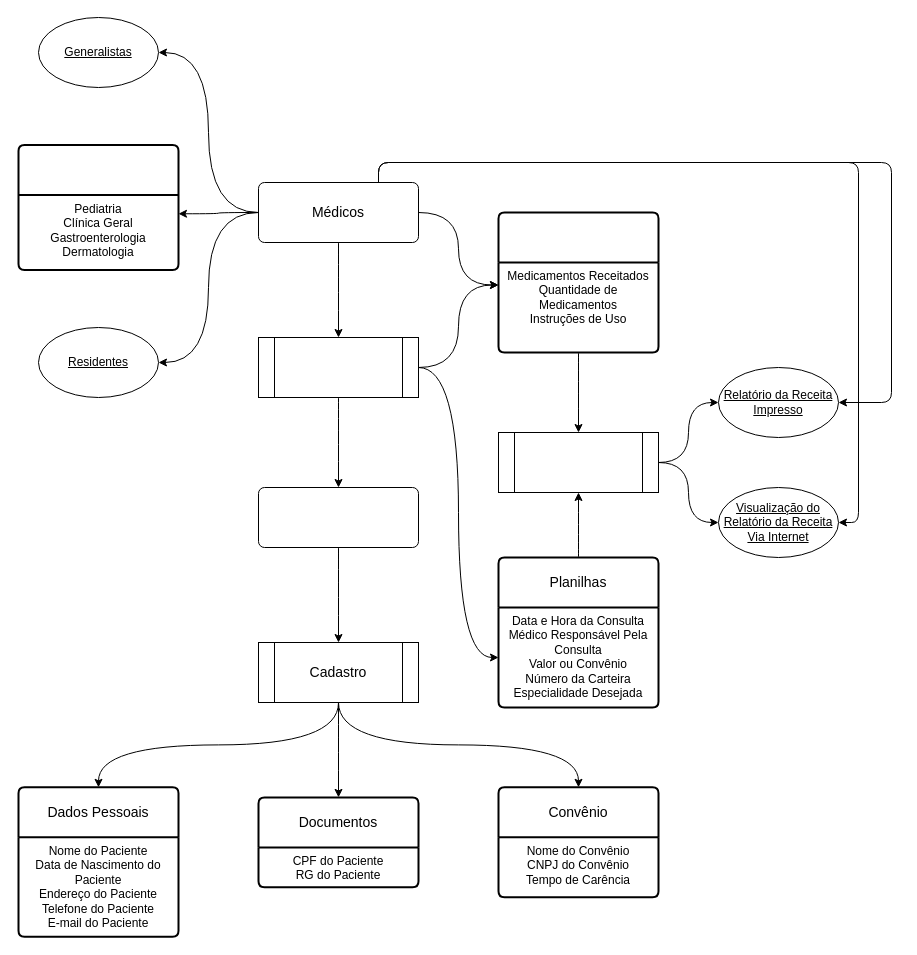
Image size: 917x955. Some labels were removed from this diagram. The box of each missing label's shape, as (x1, y1, x2, y2) in pixels:
Consultas: (258, 336, 418, 398)
Especialistas: (17, 144, 179, 270)
Pacientes: (258, 486, 418, 548)
Receitas do Médico: (497, 211, 659, 353)
Sistema: (498, 432, 658, 492)
